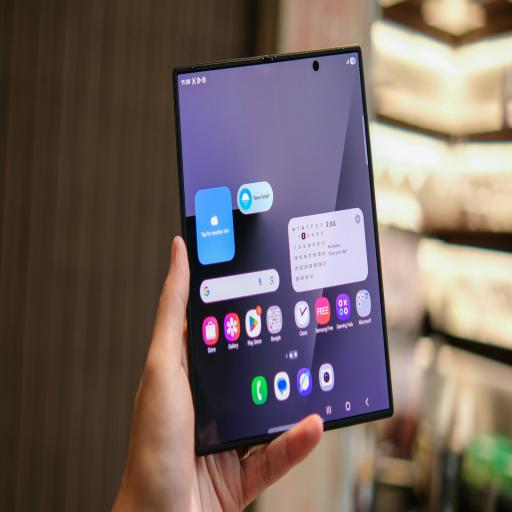phone: (279, 49, 393, 429)
